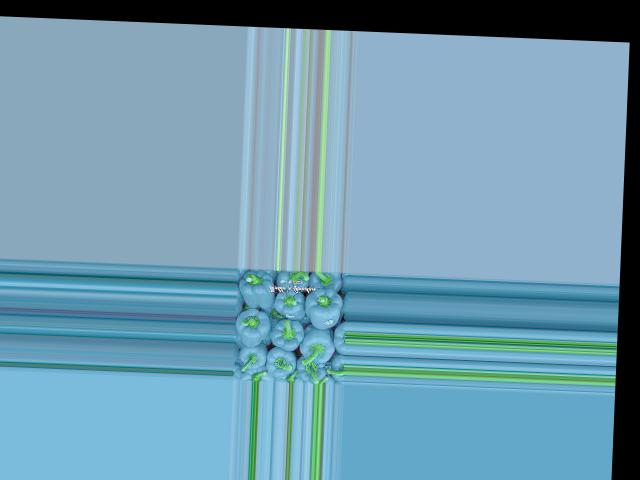bell_pepper: (307, 270, 346, 295)
